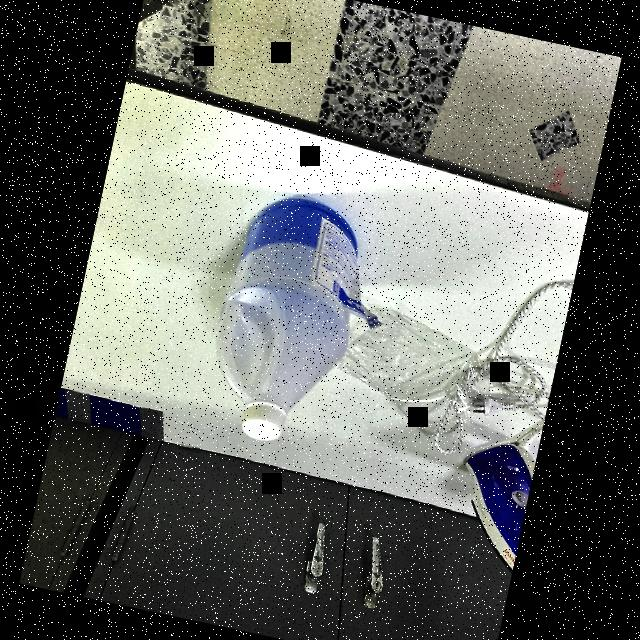chemical_plastic_gallon: (177, 176, 400, 479)
